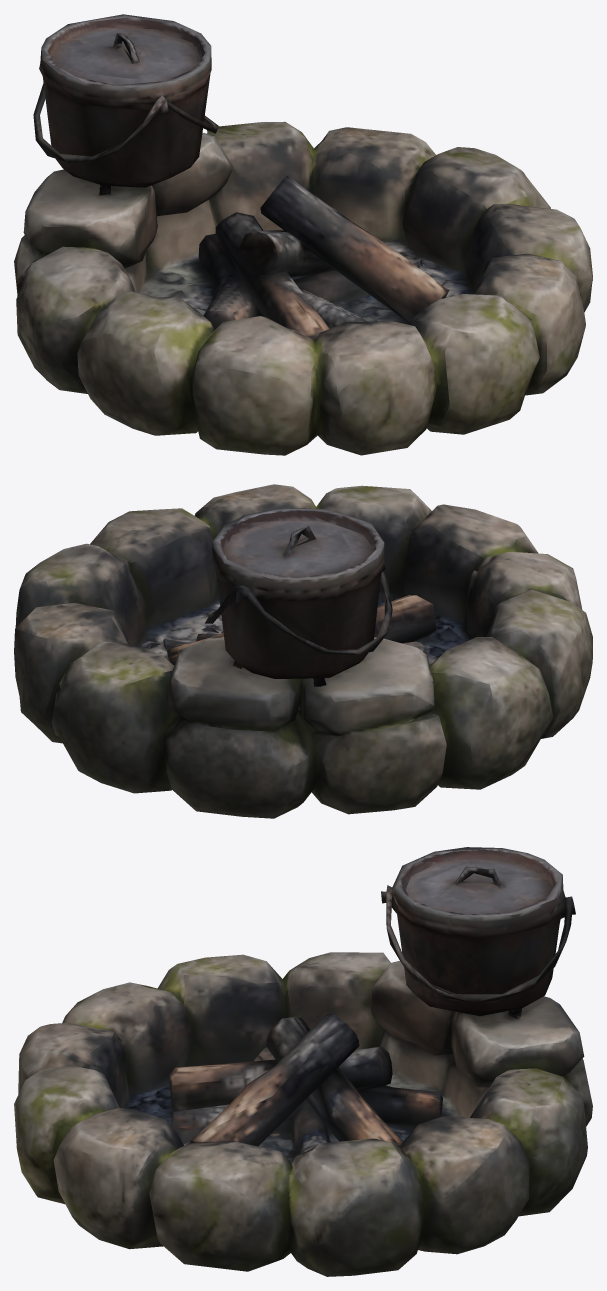
The model's file is CampFirePit.gltf.
The picture shows the model from 3 angles, top to bottom: view 1: azimuth 30°, elevation 25°; view 2: azimuth 150°, elevation 25°; view 3: azimuth 270°, elevation 25°; orthographic projection.
Visible parts, largest first — view 1: lo; view 2: lo; view 3: lo.
Boxes of the visible parts, x1=… form: lo: x1=14, y1=14, x2=592, y2=455; lo: x1=14, y1=484, x2=592, y2=818; lo: x1=14, y1=847, x2=592, y2=1276.
Size of the model in its own units: 2.08 by 1.05 by 2.08.
1 material, 1 textured.
